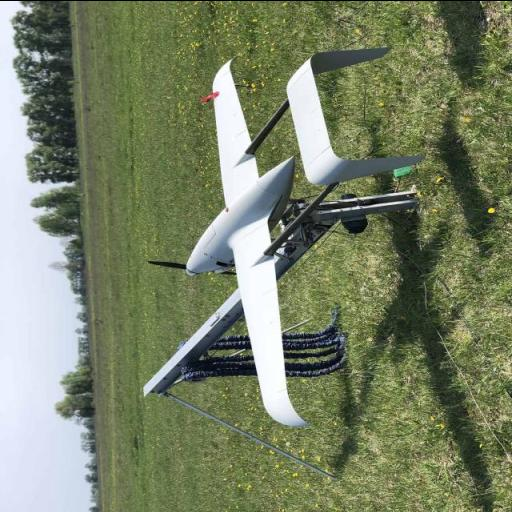uav: (152, 36, 394, 428)
